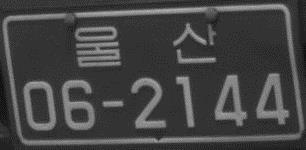-: (99, 96, 128, 112)
0: (21, 78, 57, 132)
1: (170, 73, 198, 130)
2: (129, 75, 168, 132)
4: (253, 71, 291, 128), (212, 72, 249, 129)
6: (59, 77, 97, 131)
울산_D: (73, 19, 220, 70)
